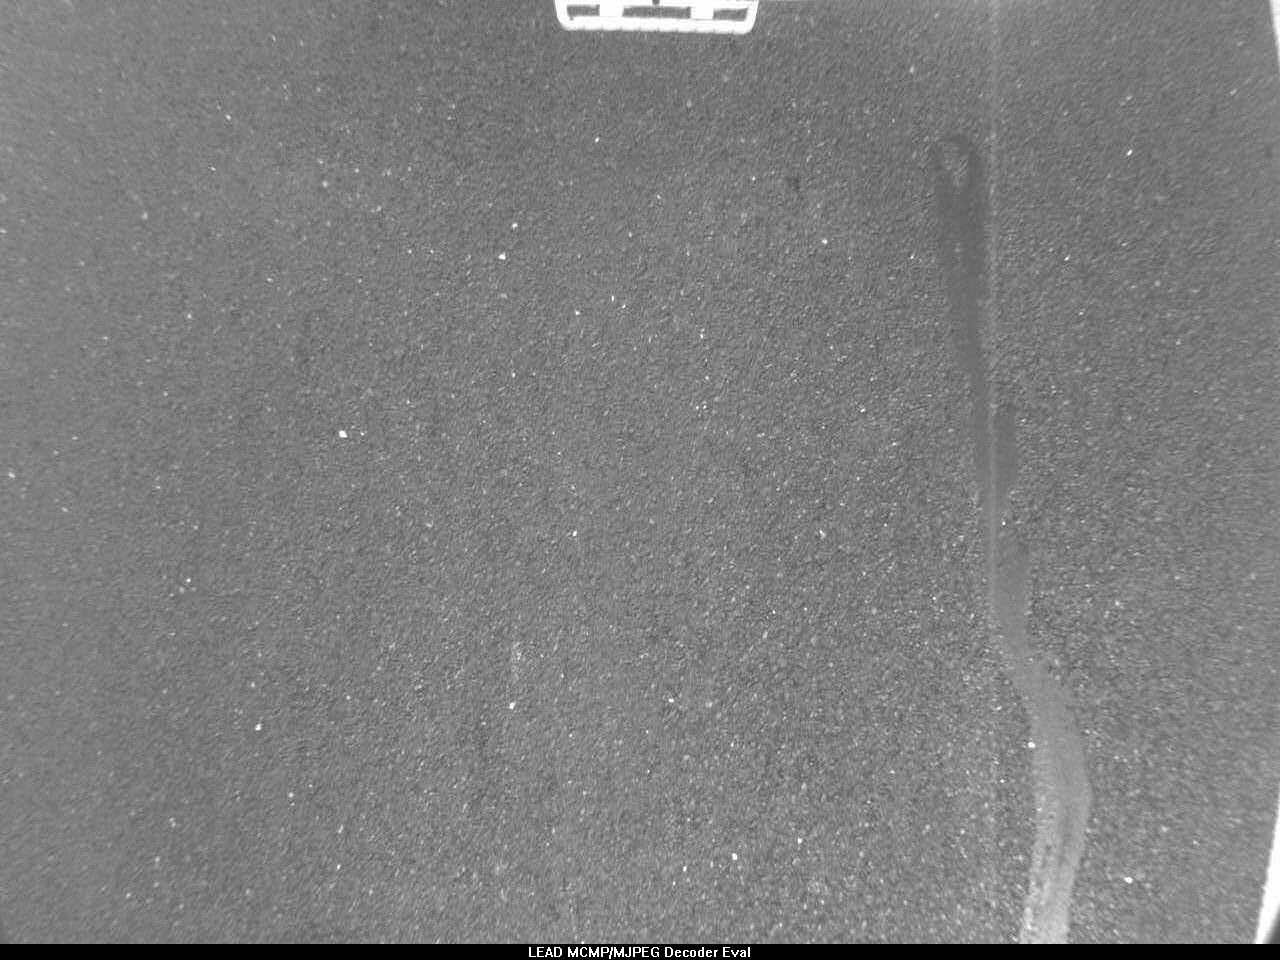sealed: (930, 141, 1090, 921)
